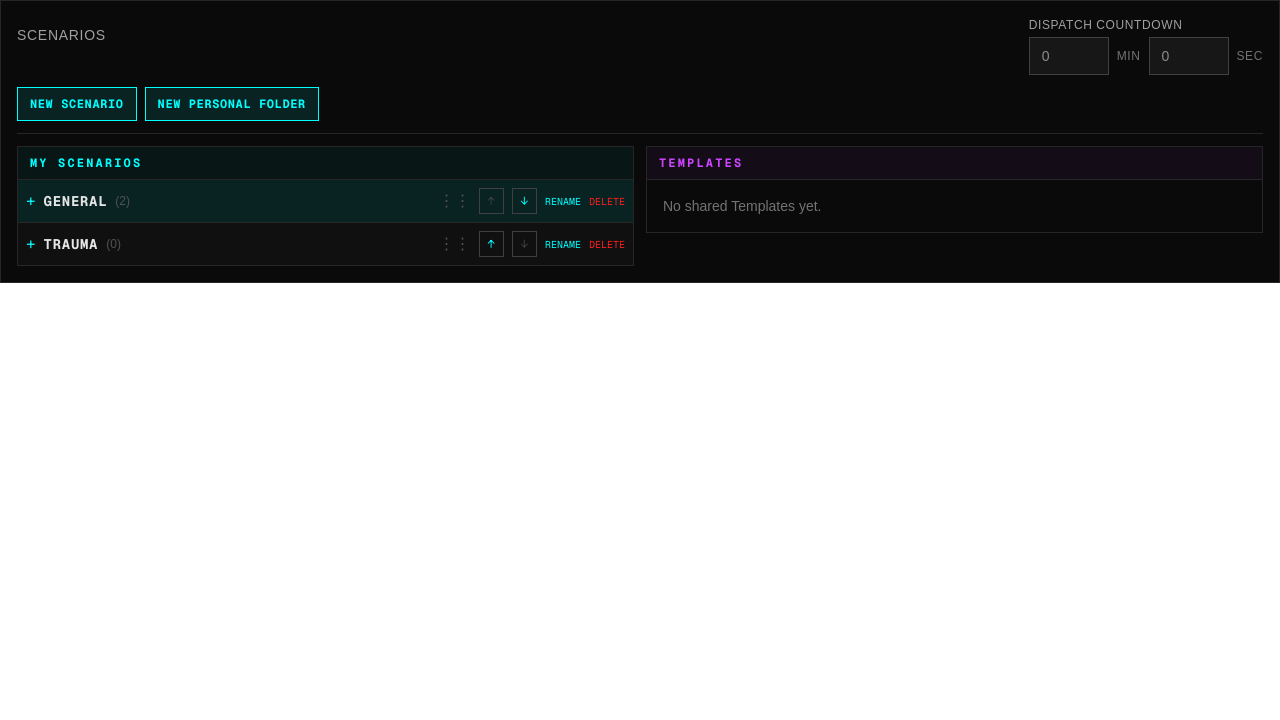
ScenarioLibraryPanel › opens folders independently and allows every folder to be closed
Click the button "+ General (2)" at {"x": 75, "y": 201}, box [26,189,431,213]
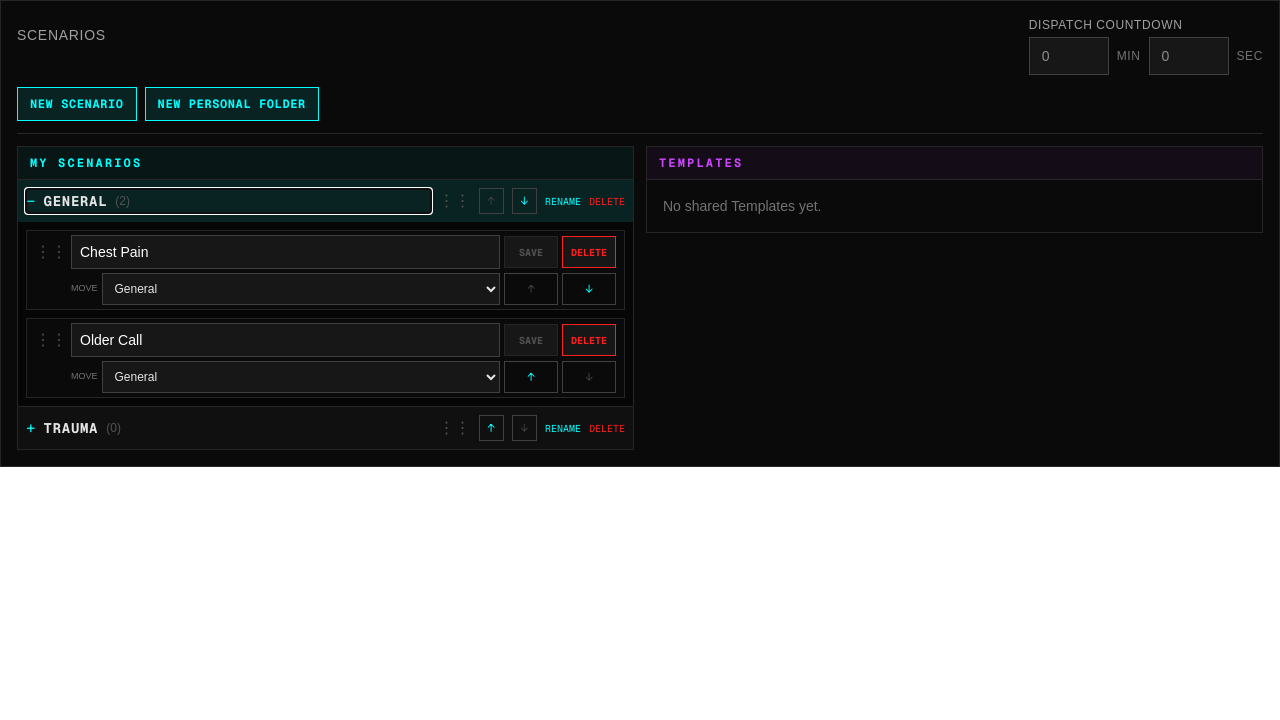
Expected: the element named "General scenarios" is shown, [18,222,633,406]
Click the button "+ Trauma (0)" at {"x": 71, "y": 428}, box [26,416,431,440]
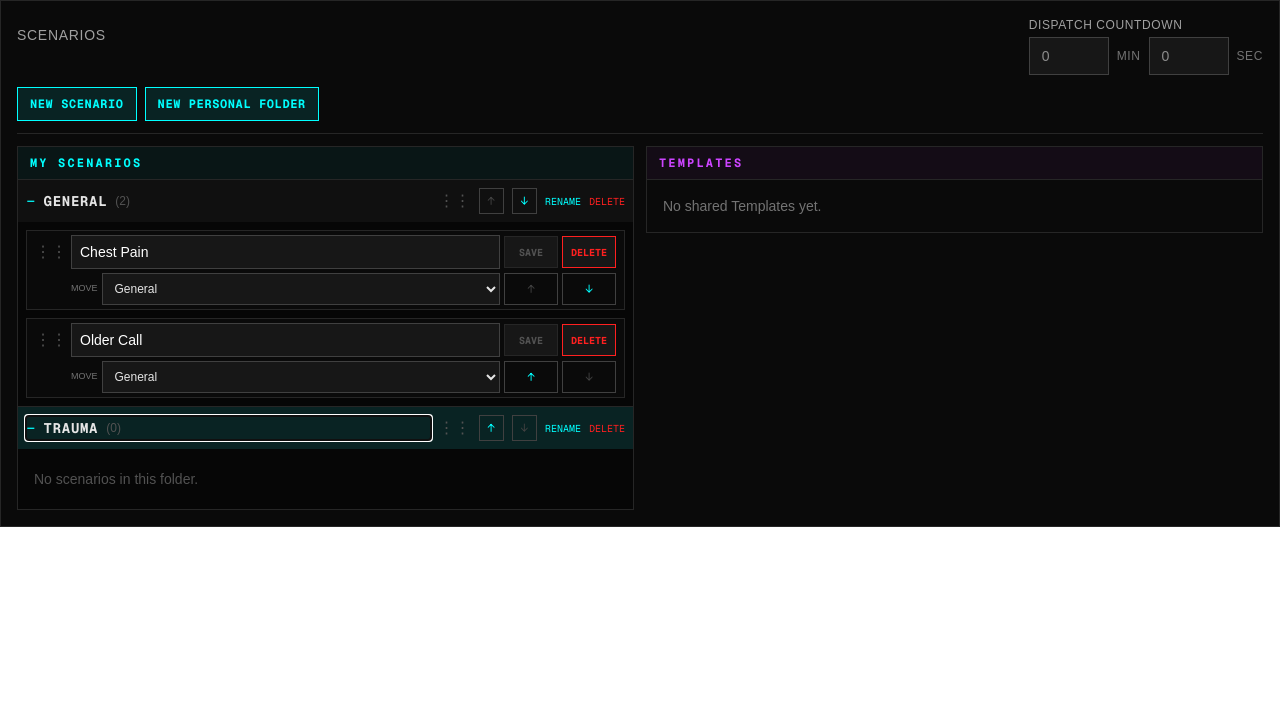
Expected: the button "− General (2)" is expanded, [26,189,431,213]
Expected: the element named "General scenarios" is shown, [18,222,633,406]
Expected: the button "− Trauma (0)" is expanded
Click the button "− Trauma (0)" at {"x": 71, "y": 428}, box [26,416,431,440]
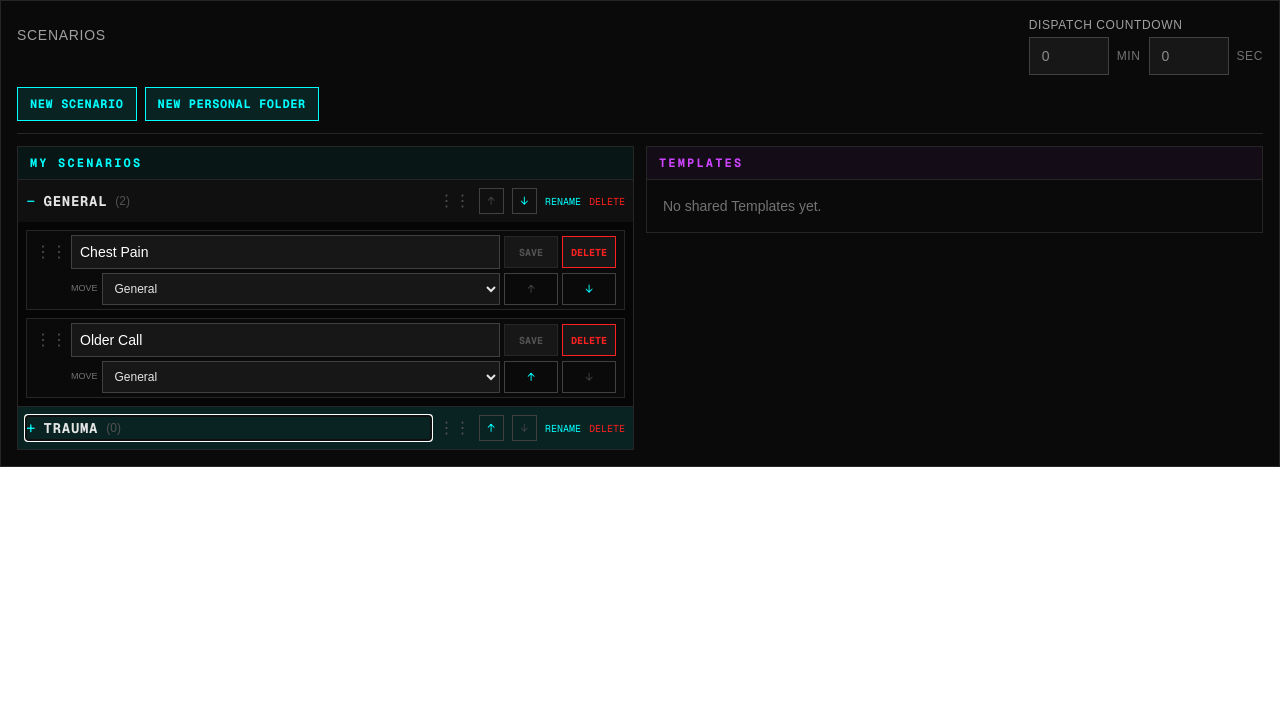
Click the button "− General (2)" at {"x": 75, "y": 201}, box [26,189,431,213]
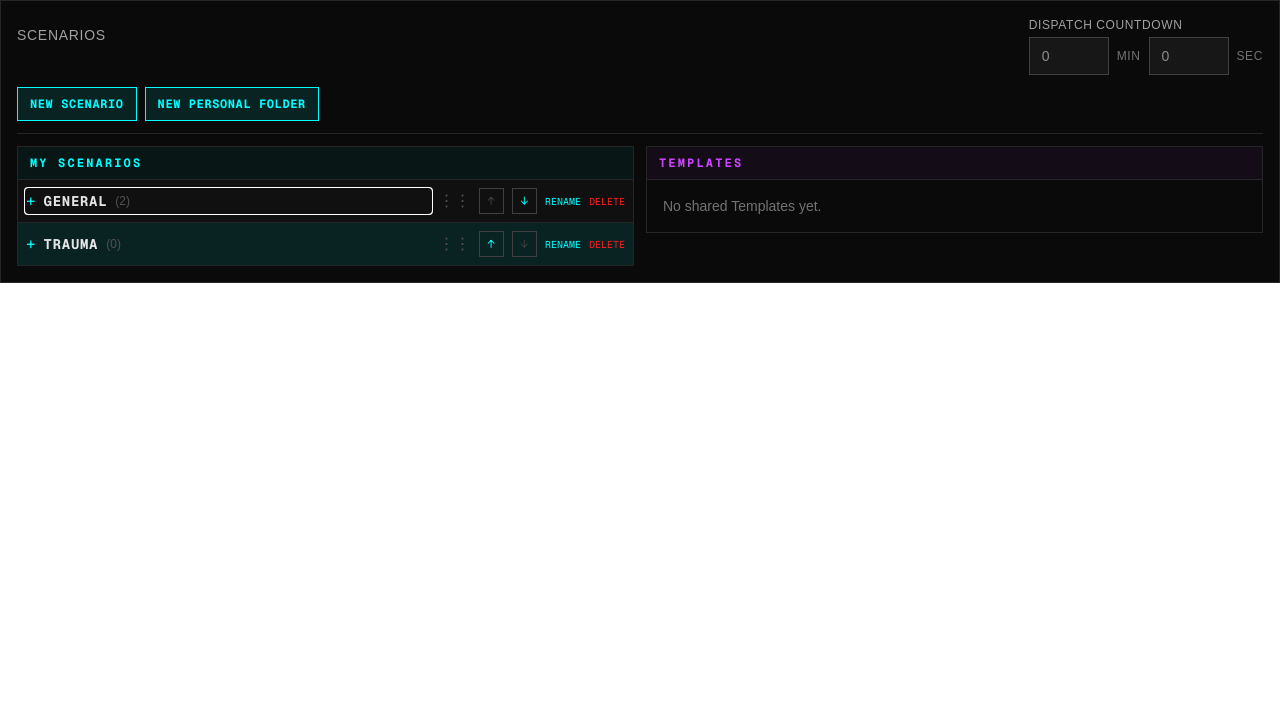
Expected: the button "+ Trauma (0)" is collapsed, [26,232,431,256]
Expected: the button "+ General (2)" is collapsed, [26,189,431,213]
